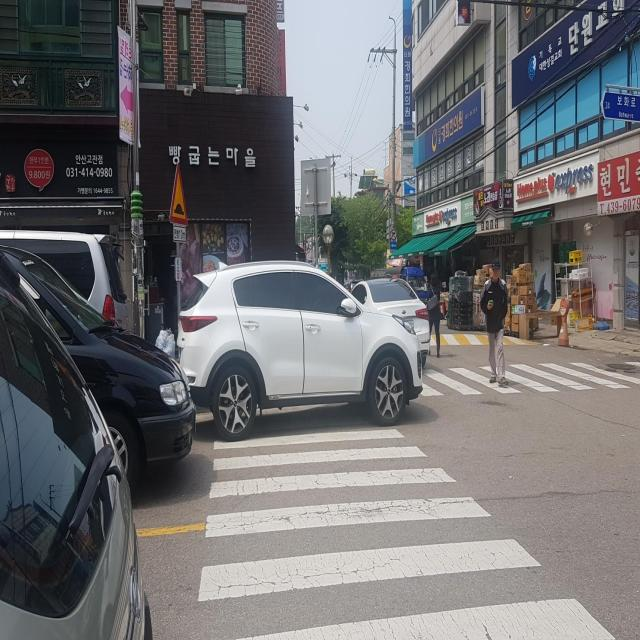횡단보도: (194, 423, 622, 640), (414, 358, 638, 400)
